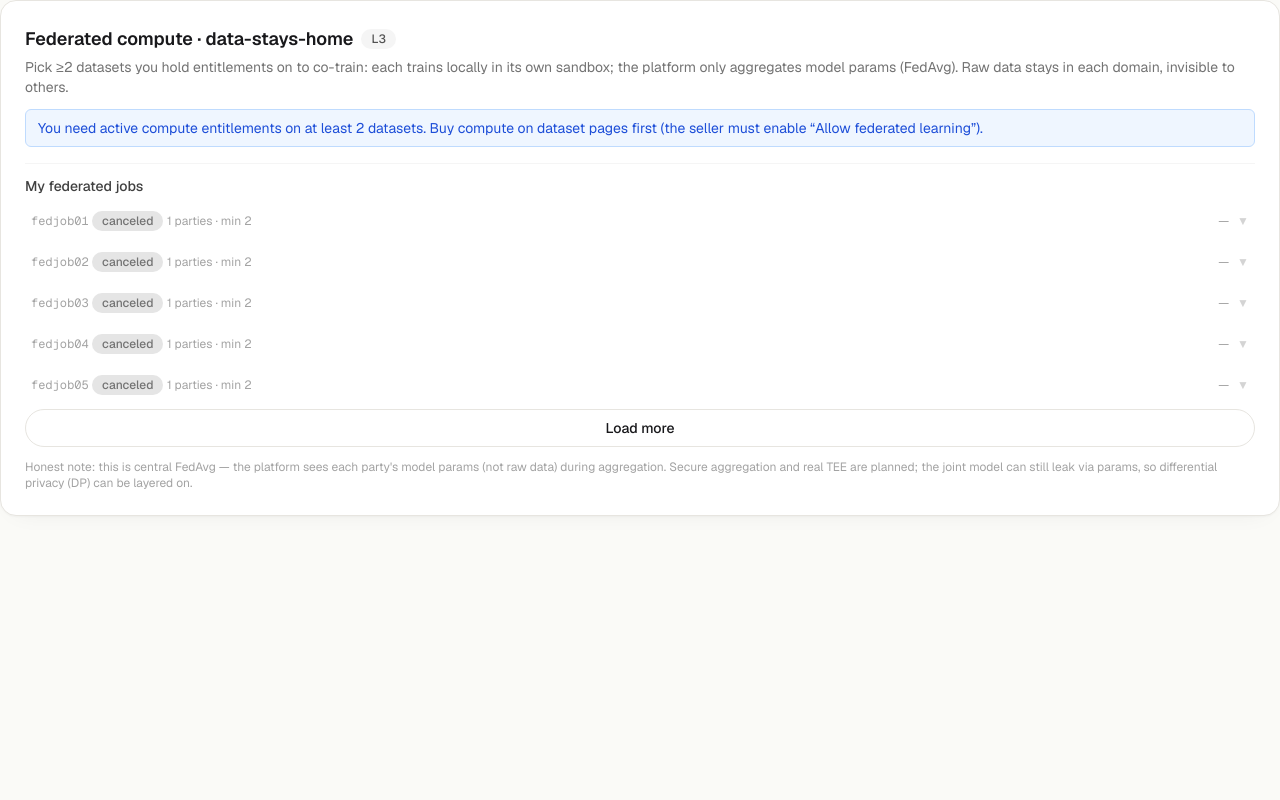
Scenario: FederatedComputePanel — load more with interleaved PSI jobs › does not duplicate federated rows after loading more
Expected: the text "fedjob01" is shown, [31,213,89,229]
Expected: the text "fedjob05" is shown, [31,377,89,393]
Click the button "Load more": [640, 428] box [25,409,1255,447]
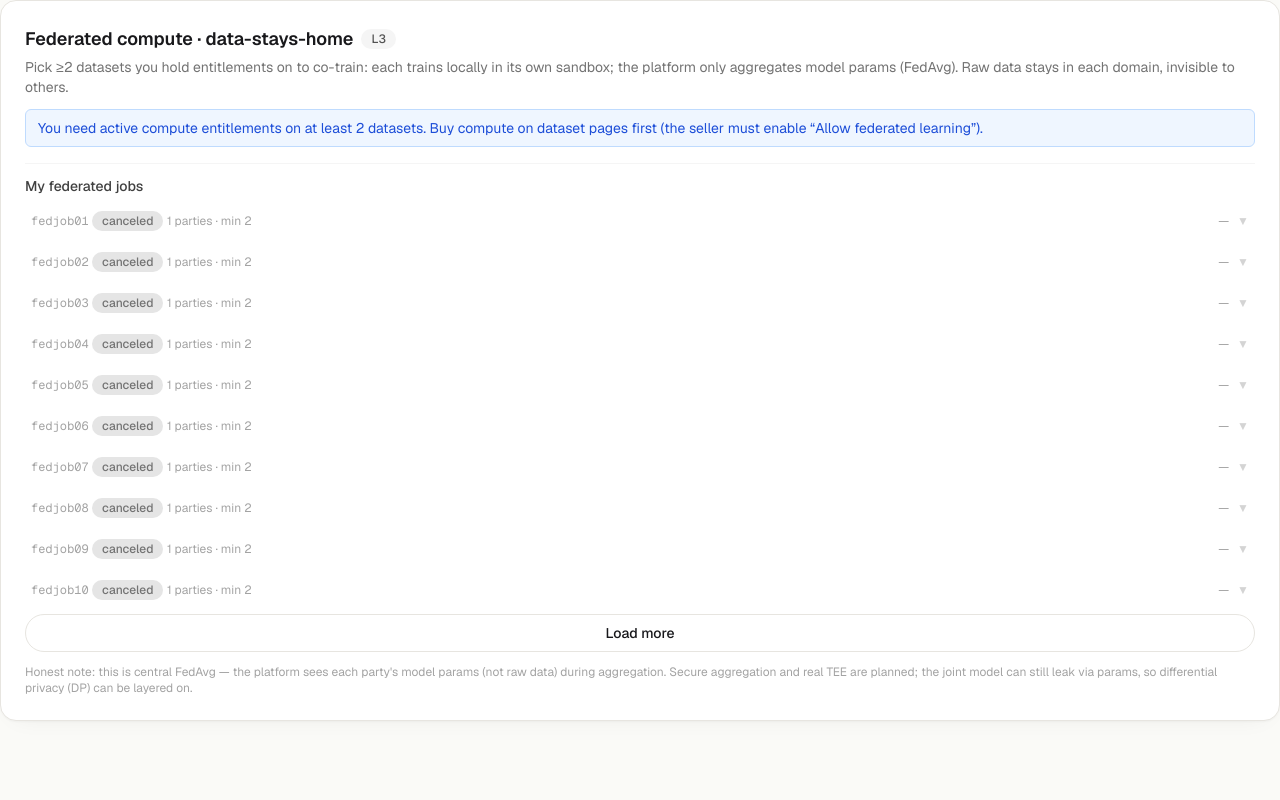
Expected: the text "fedjob05" is shown once, [31,377,89,393]
Expected: the text "fedjob06" is shown once, [31,418,89,434]
Expected: the text "fedjob10" is shown once, [31,582,89,598]
